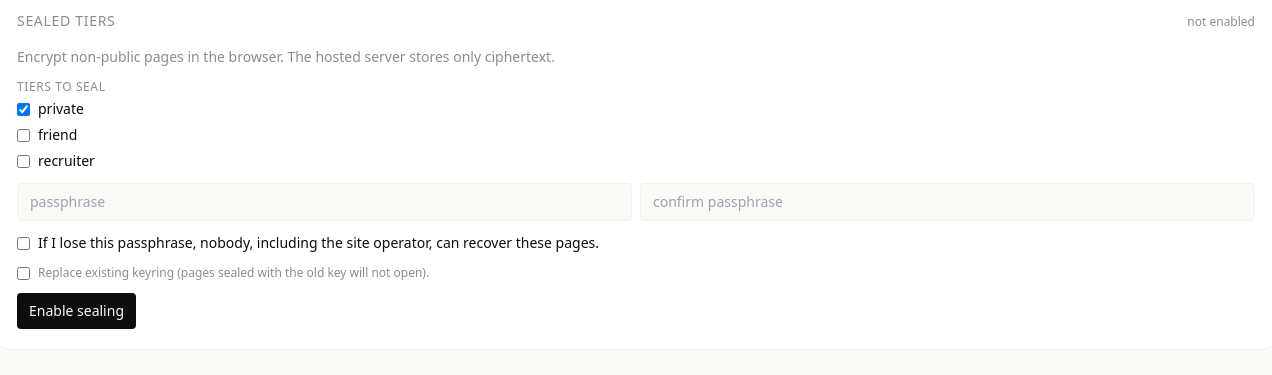
SealingPanel › does not enable without matching confirm and acknowledgement
This screenshot has width=1272, height=375.
Type "secret" into the password field with placeholder "passphrase" at coordinates (324, 202), box [17,183,632,221]
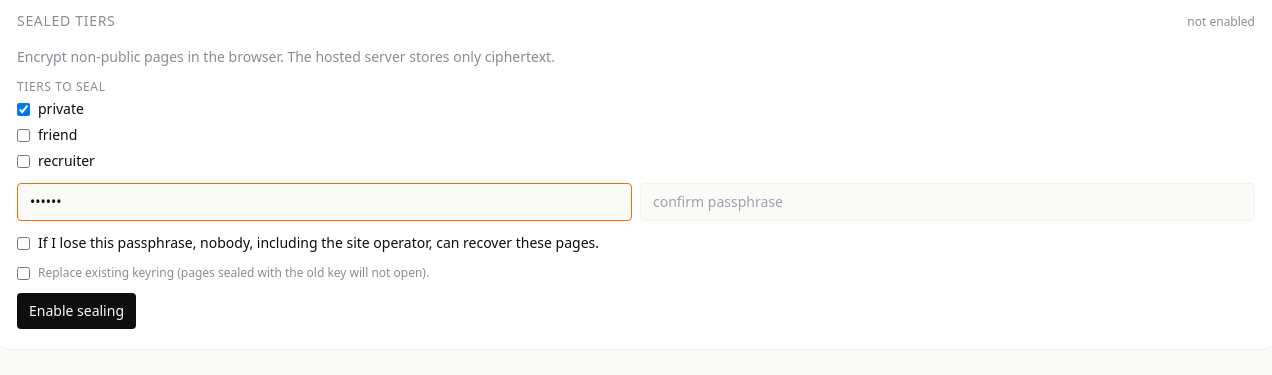
Click the button "Enable sealing" at coordinates (76, 311), box [17,293,136,329]
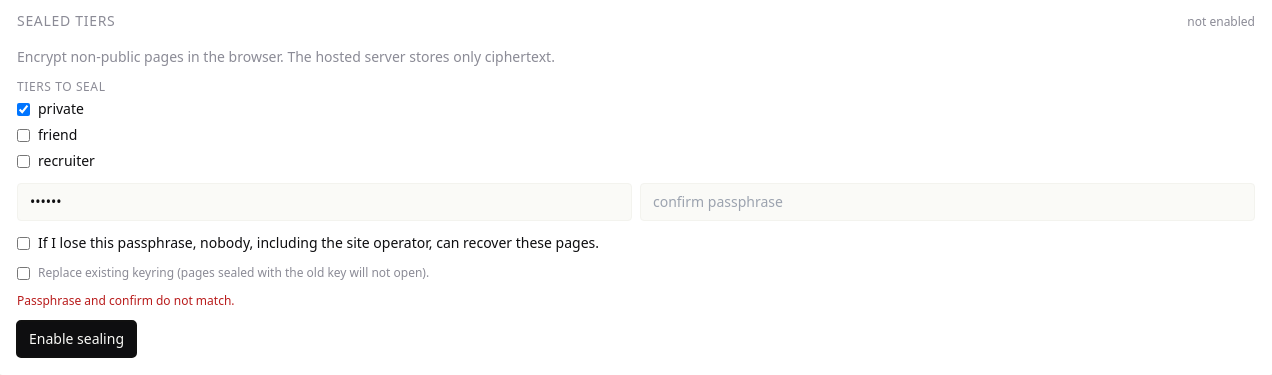
Check: the message shows "confirm do not match", box [17,292,234,309]
Type "secret" into the password field with placeholder "confirm passphrase" at coordinates (948, 202), box [640,183,1255,221]
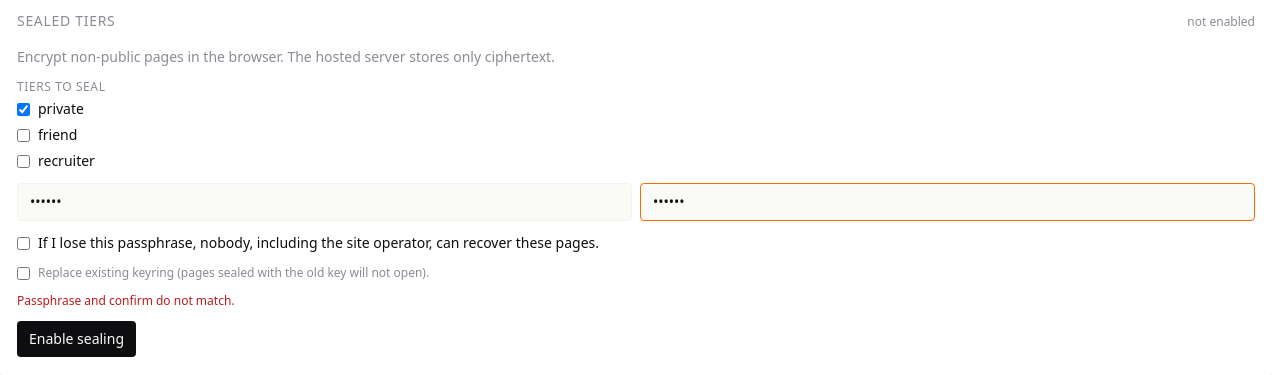
Click the button "Enable sealing" at coordinates (76, 339), box [17,321,136,357]
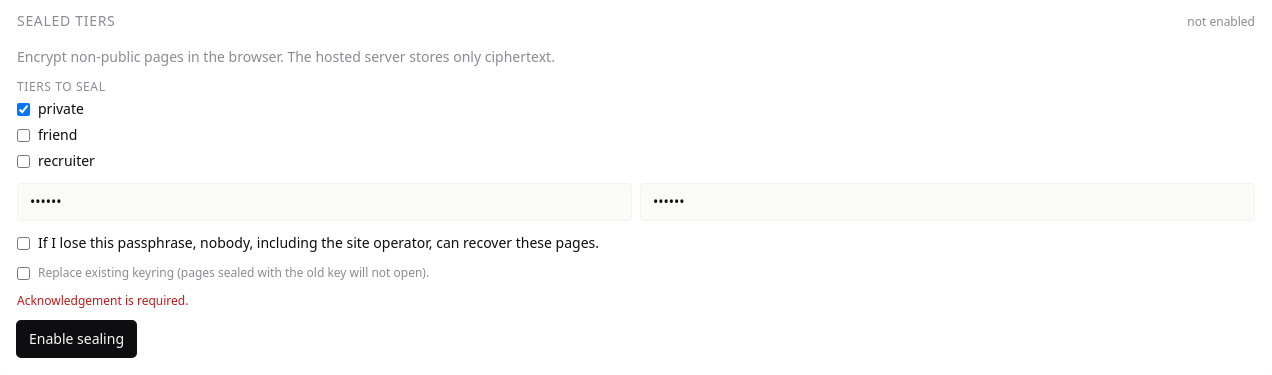
Check: the message shows "Acknowledgement is required", box [17,292,188,309]
